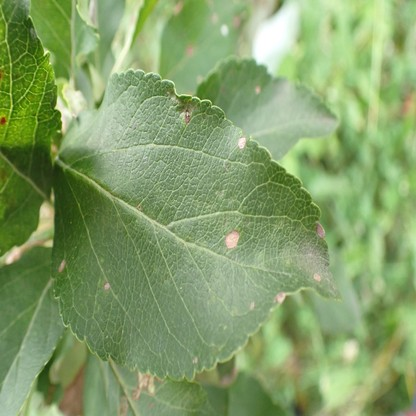frogeye: (137, 371, 155, 397), (226, 230, 240, 247), (315, 223, 325, 239), (274, 292, 286, 302), (58, 260, 67, 273), (313, 271, 323, 282), (238, 136, 246, 149), (184, 110, 191, 123), (104, 281, 110, 291), (0, 116, 5, 126)
